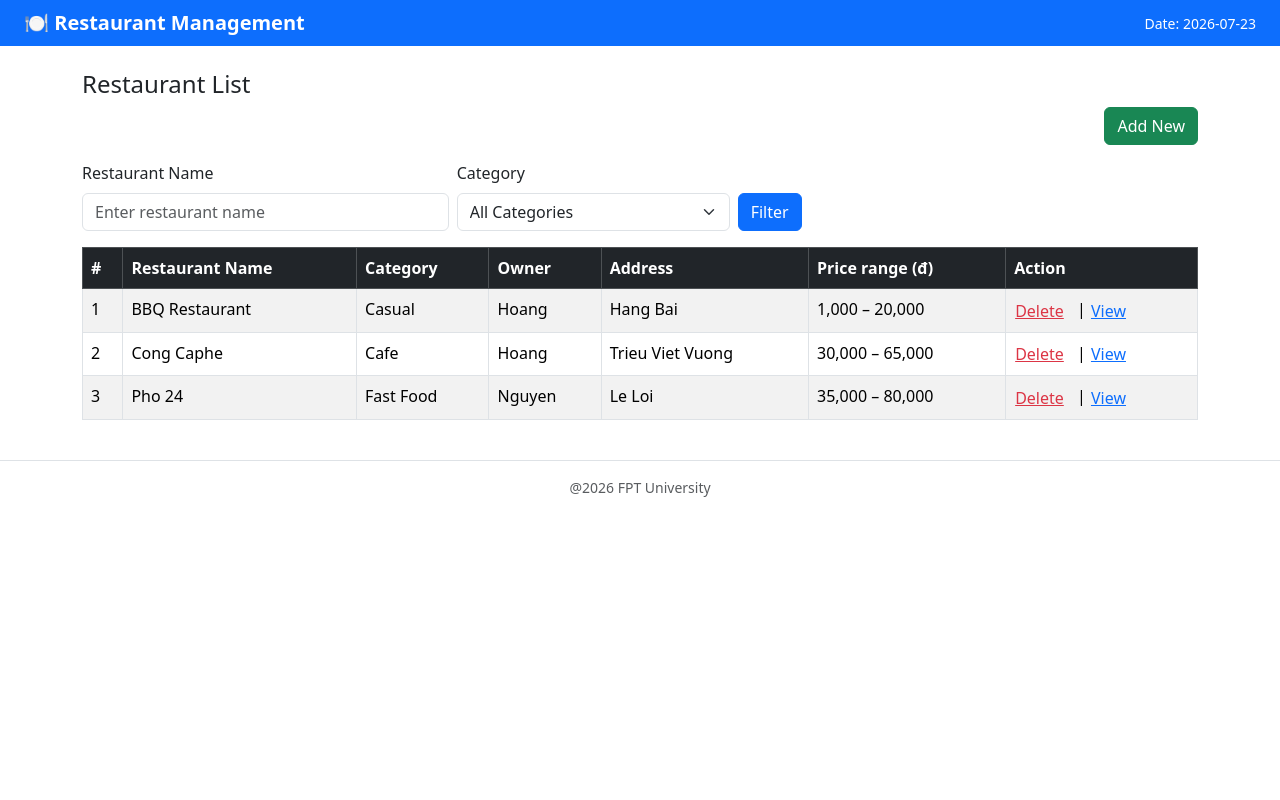
Test case: RestaurantListPage — delete › click Close đóng modal không xóa
Click the button "Delete" in the row of "BBQ Restaurant".
click(1040, 310)  # box [1014,298,1065,324]
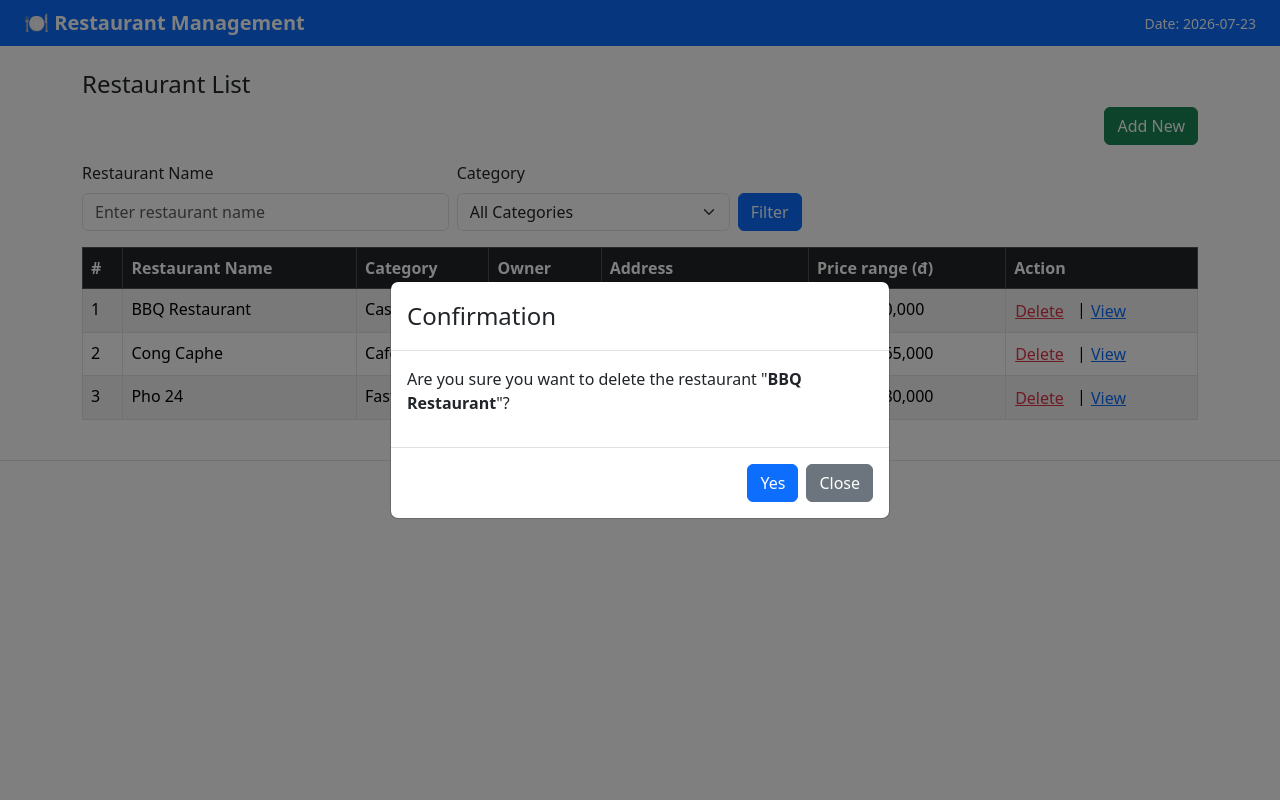
Result: the button "Close" is shown
Click the button "Close".
click(840, 483)  # box [806,464,873,502]
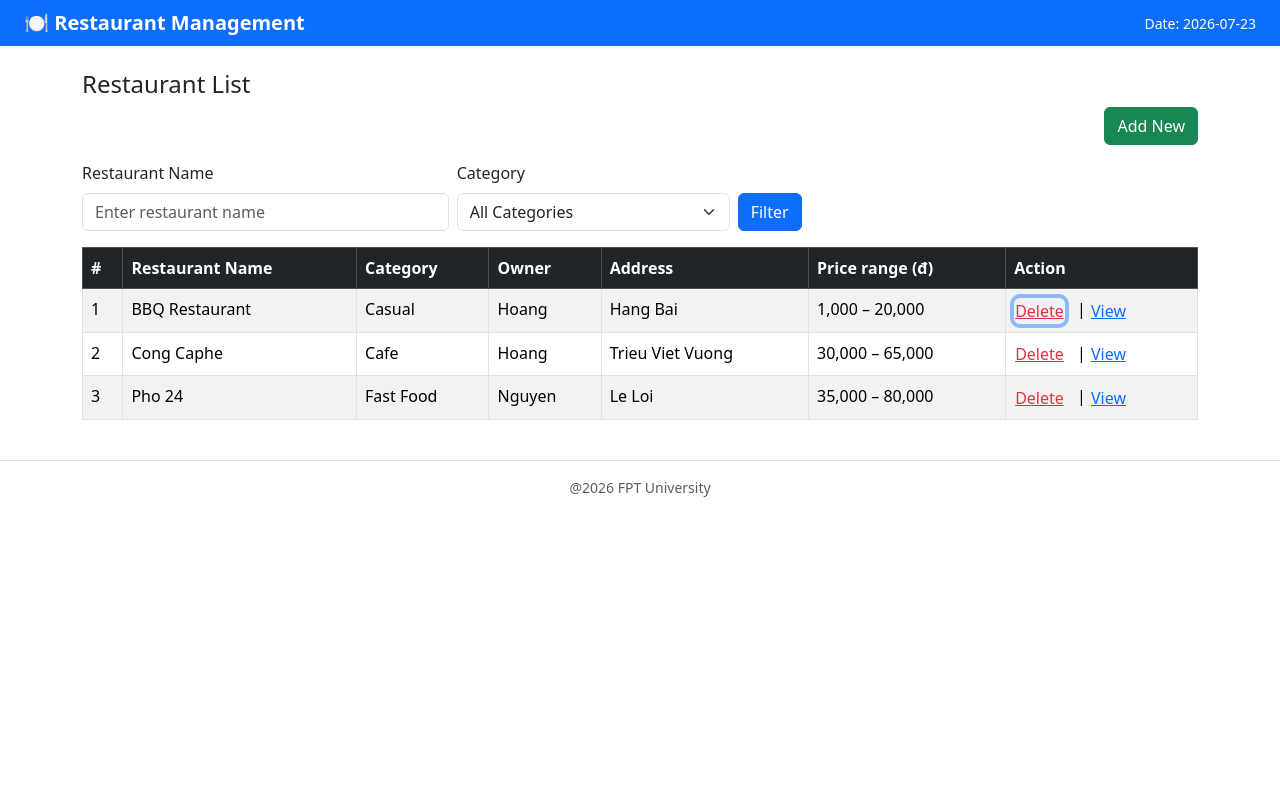
Result: the text "Are you sure" is gone
